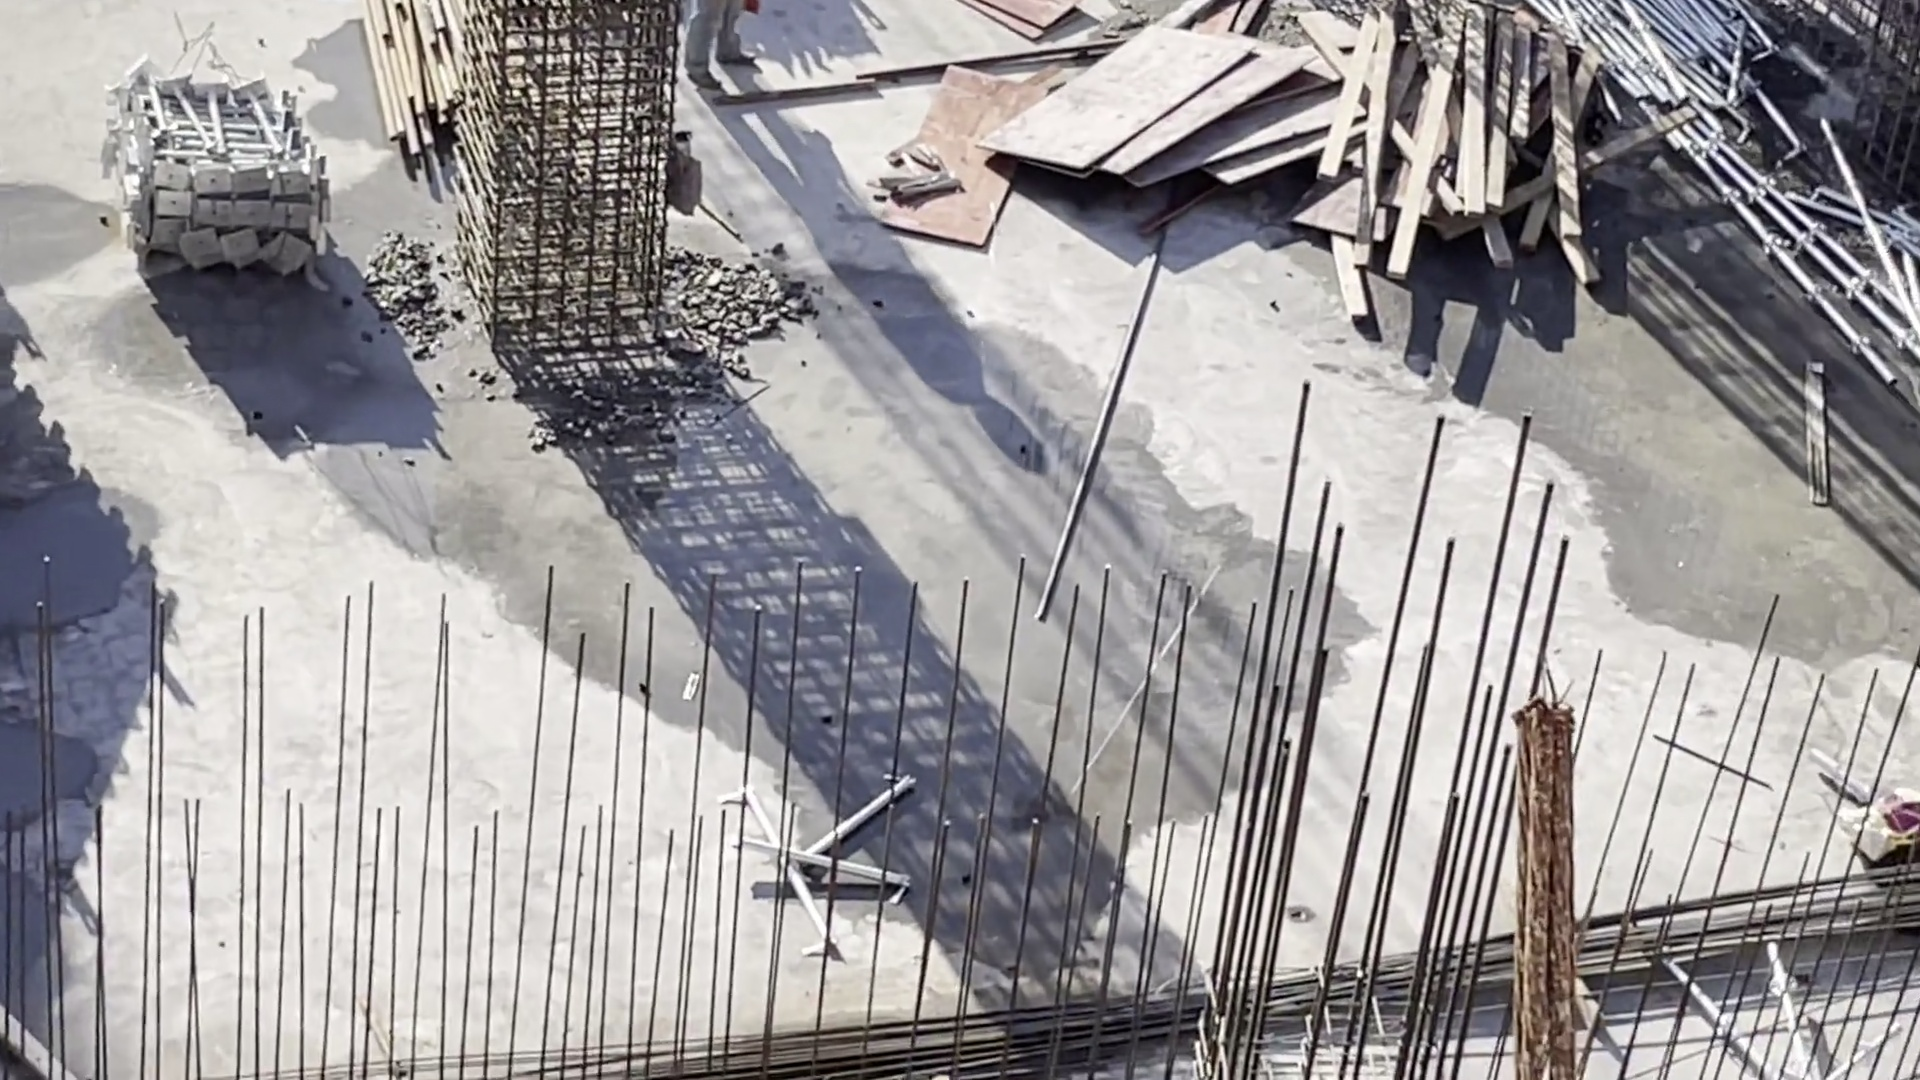board: (985, 22, 1330, 211)
person: (673, 1, 772, 91)
rebar: (601, 869, 1919, 1070)
scaffold: (119, 62, 339, 302), (1771, 170, 1920, 350), (1602, 1, 1754, 121)
wood: (1333, 4, 1599, 274)
